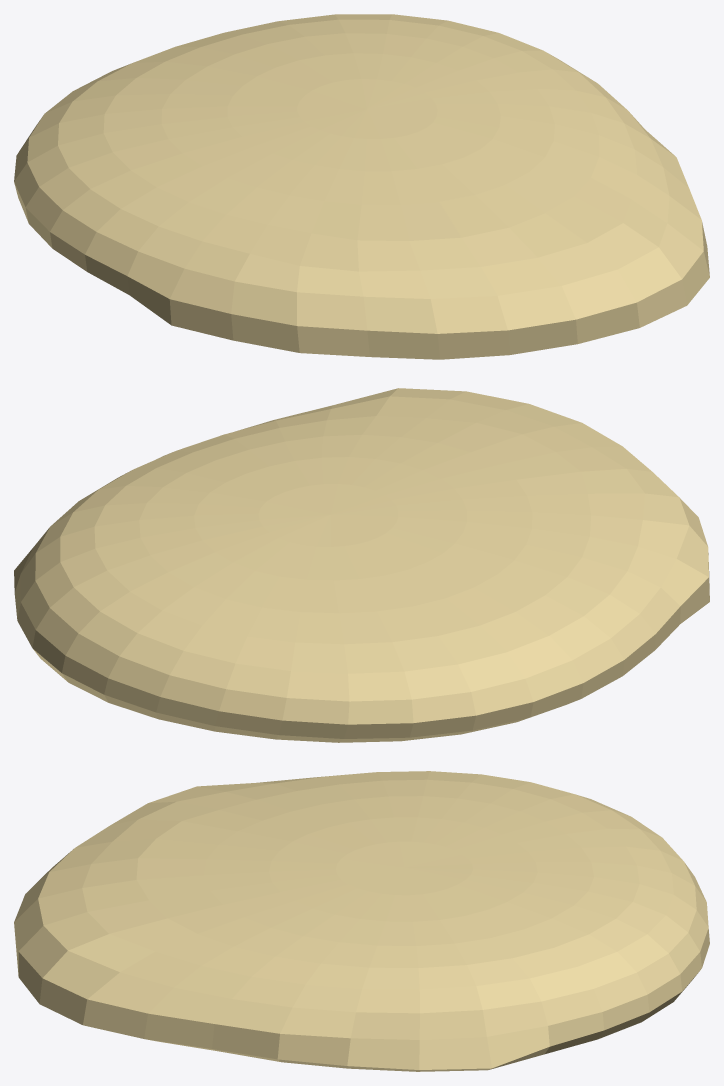
File: rawChicken_v1.fbx
3 renders of one model, top to bottom at view 1: azimuth 30°, elevation 25°; view 2: azimuth 150°, elevation 25°; view 3: azimuth 270°, elevation 25°, orthographic. The views are drawn at different scales.
Parts seen in each view (by area): view 1: Sphere; view 2: Sphere; view 3: Sphere.
Boxes of the visible parts, box(x1,y1,x2,y2) form: Sphere: box(14, 14, 709, 359); Sphere: box(14, 388, 709, 742); Sphere: box(14, 771, 709, 1071).
Size of the model in its own units: 128 by 23.99 by 143.
